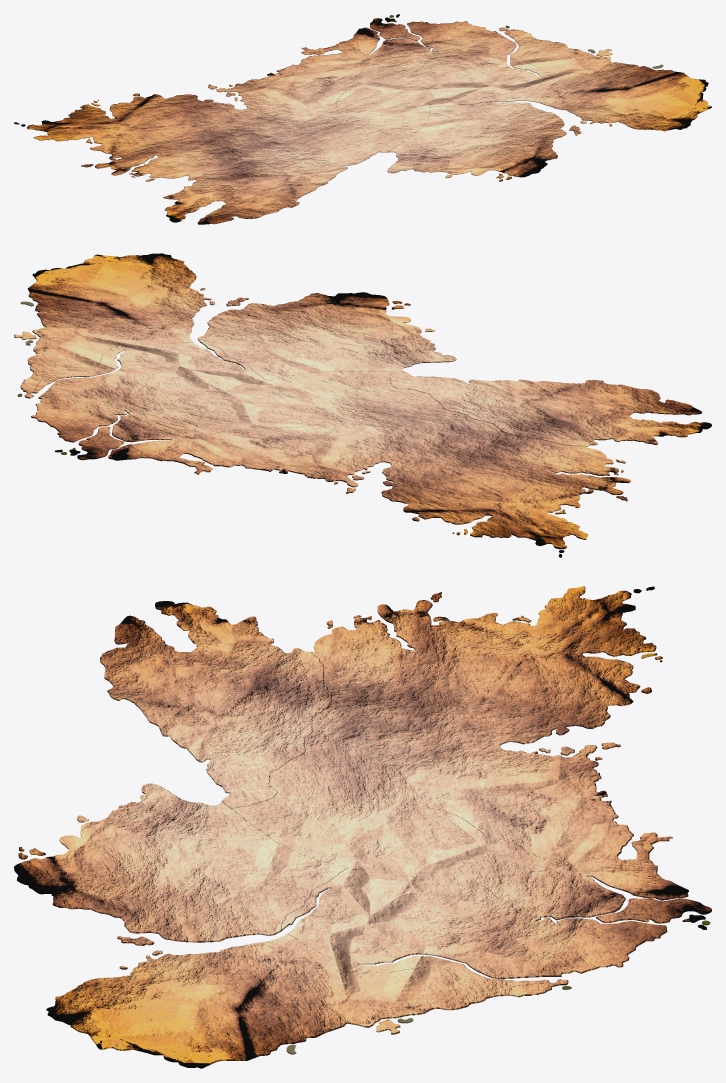
Rendered from PaperAmaralys.glb.
The picture shows the model from 3 angles, top to bottom: view 1: azimuth 30°, elevation 25°; view 2: azimuth 150°, elevation 25°; view 3: azimuth 270°, elevation 25°; orthographic projection. The views are drawn at different scales.
Visible parts, largest first — view 1: Plane.072; view 2: Plane.072; view 3: Plane.072.
Part boxes in pixels (bbox=[...]): Plane.072: bbox=[14, 14, 711, 224]; Plane.072: bbox=[14, 253, 711, 557]; Plane.072: bbox=[14, 586, 711, 1068].
Bounding box in the file's own units: 2049 × 3.18 × 1256.
Materials: 3 (3 with a texture image).
